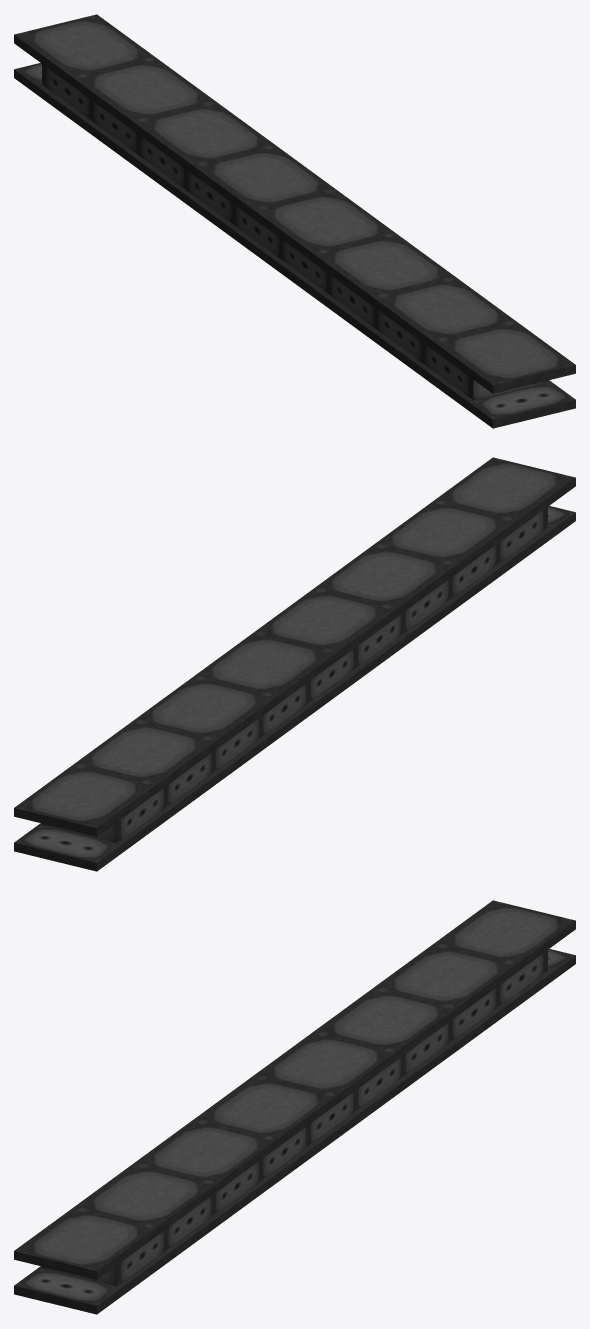
File: PanelPart01.fbx
3 renders of one model, top to bottom at view 1: azimuth 30°, elevation 25°; view 2: azimuth 150°, elevation 25°; view 3: azimuth 330°, elevation 25°, orthographic.
Visible parts, largest first — view 1: PanelPart01; view 2: PanelPart01; view 3: PanelPart01.
Boxes of the visible parts, x1=… form: PanelPart01: x1=14, y1=14, x2=575, y2=428; PanelPart01: x1=14, y1=457, x2=575, y2=871; PanelPart01: x1=14, y1=900, x2=575, y2=1314.
Bounding box in the file's own units: 10 × 5 × 100.
